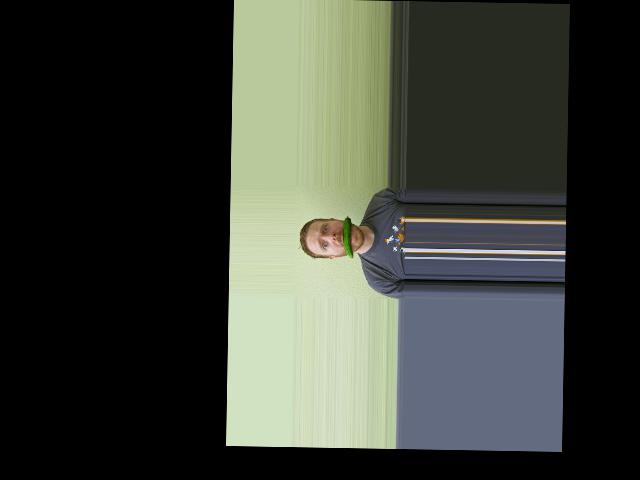cucumber: (343, 215, 354, 258)
